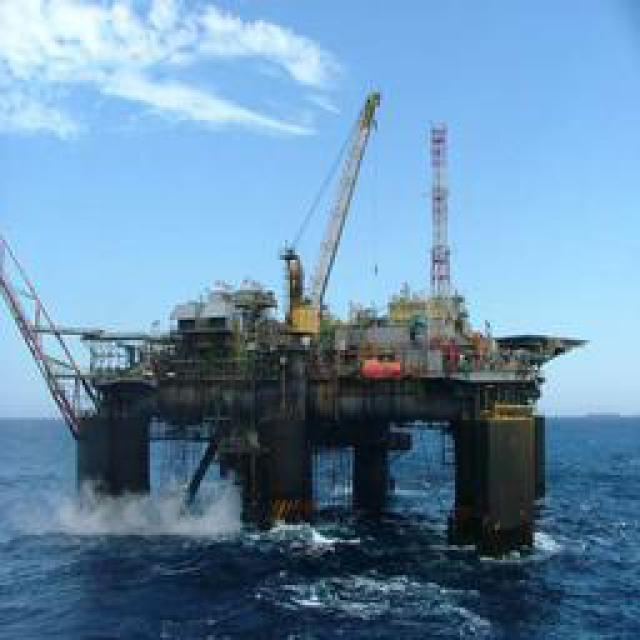Ship: (201, 92, 589, 482)
